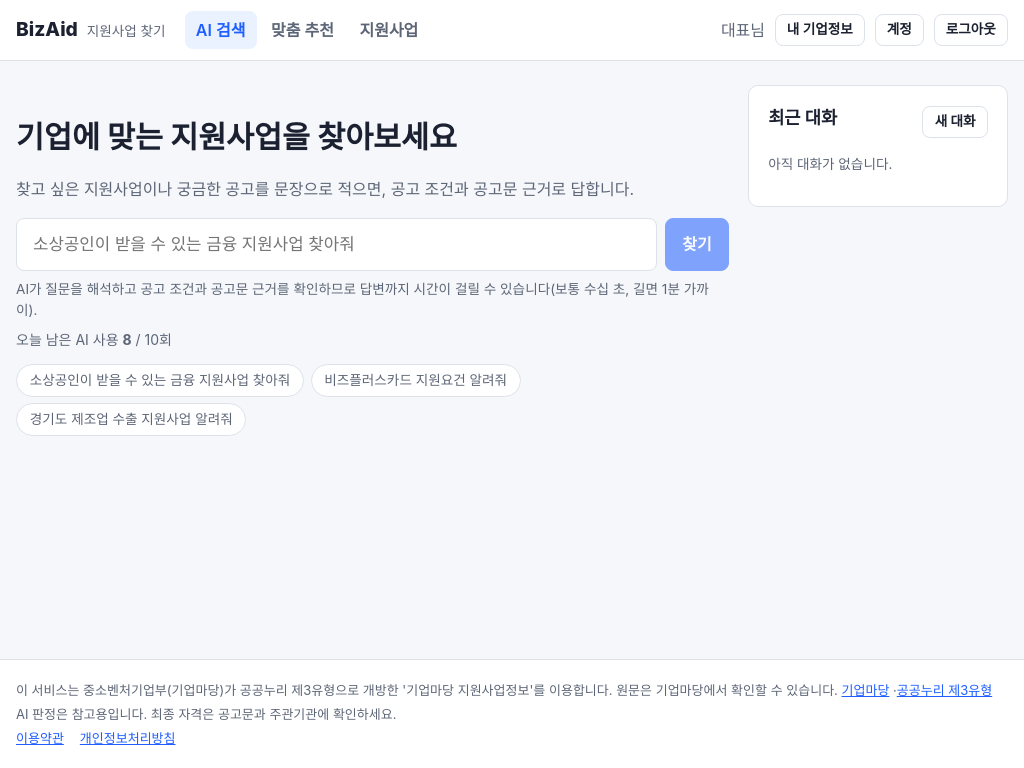
Test: 비슷한 이름 공고를 고르면 원래 질문과 선택 ID를 Spring으로 보낸다
Type "비슷한 사업 지원요건" into the field named "지원사업 질문" at point(337, 244), box left=16, top=218, right=657, bottom=271
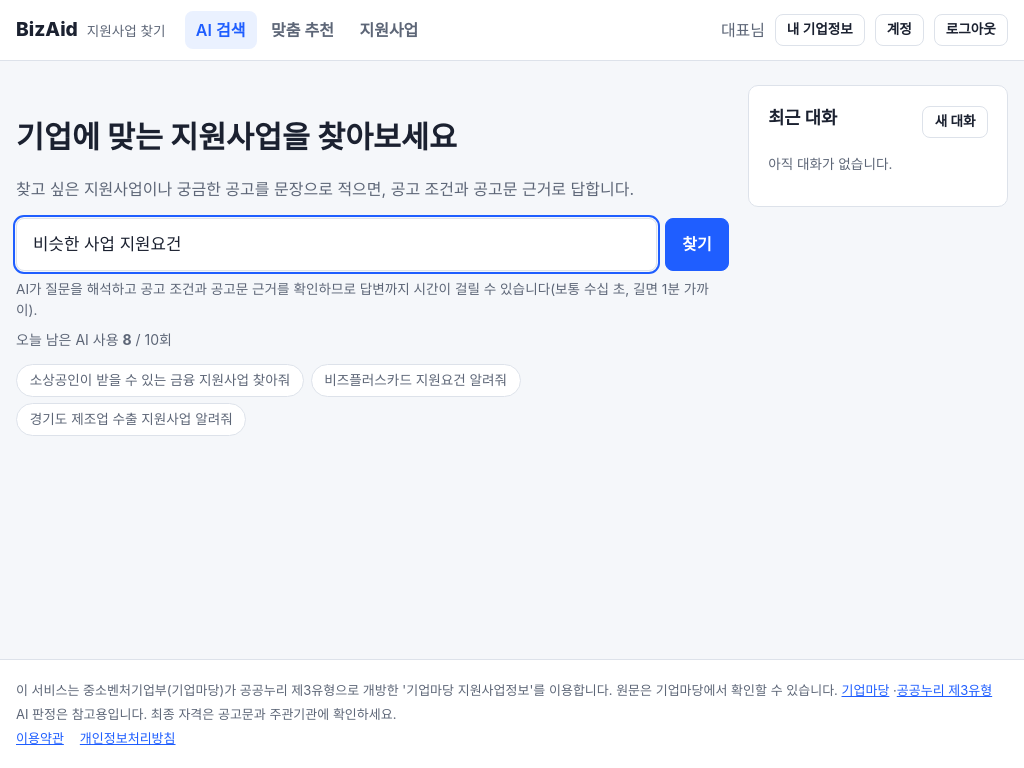
Click the button "찾기" at point(697, 244), box left=665, top=218, right=729, bottom=271
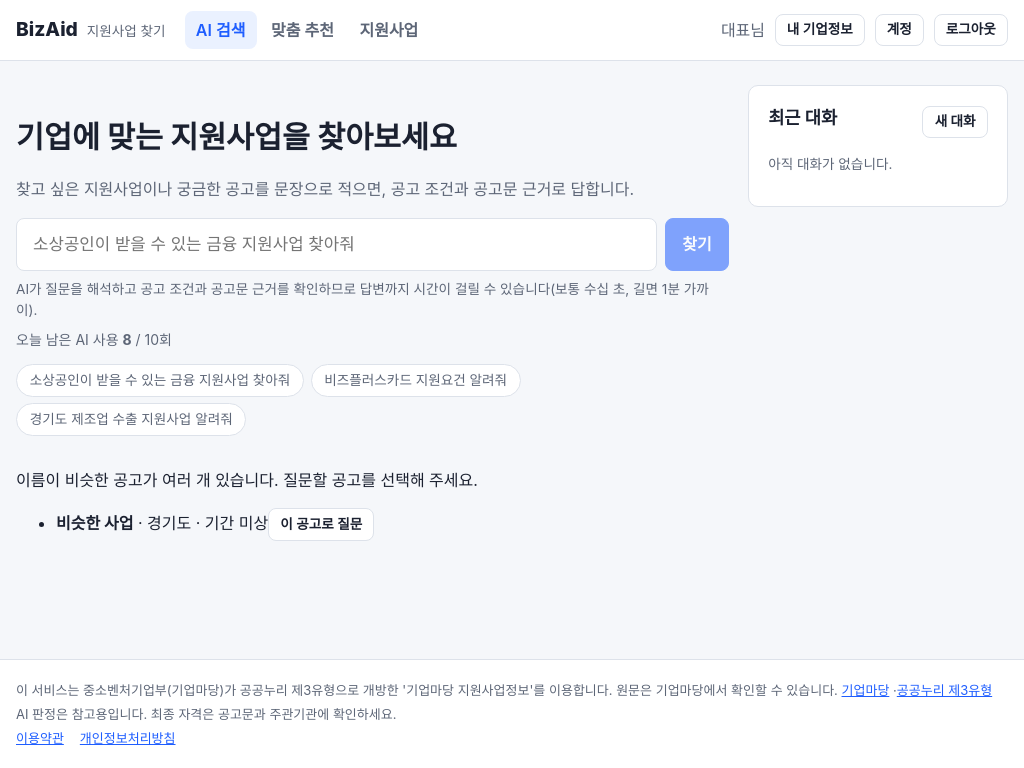
Click the button "이 공고로 질문" at point(321, 525), box left=268, top=508, right=374, bottom=541
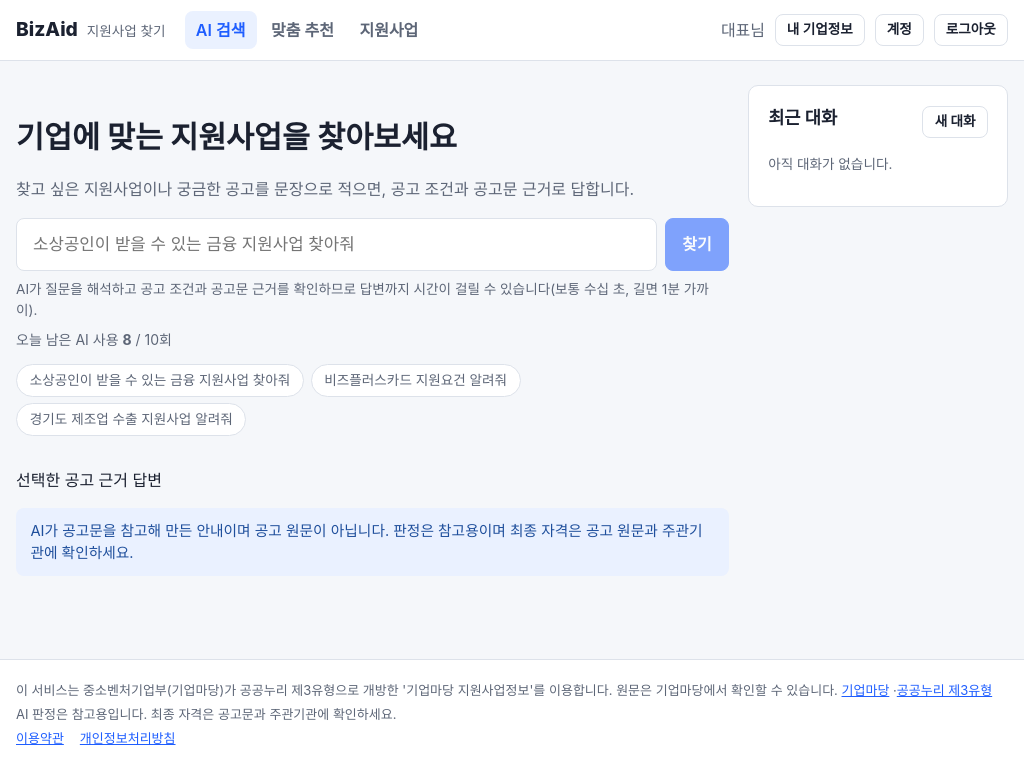
Expected: the text "선택한 공고 근거 답변" is shown, left=16, top=470, right=162, bottom=490
